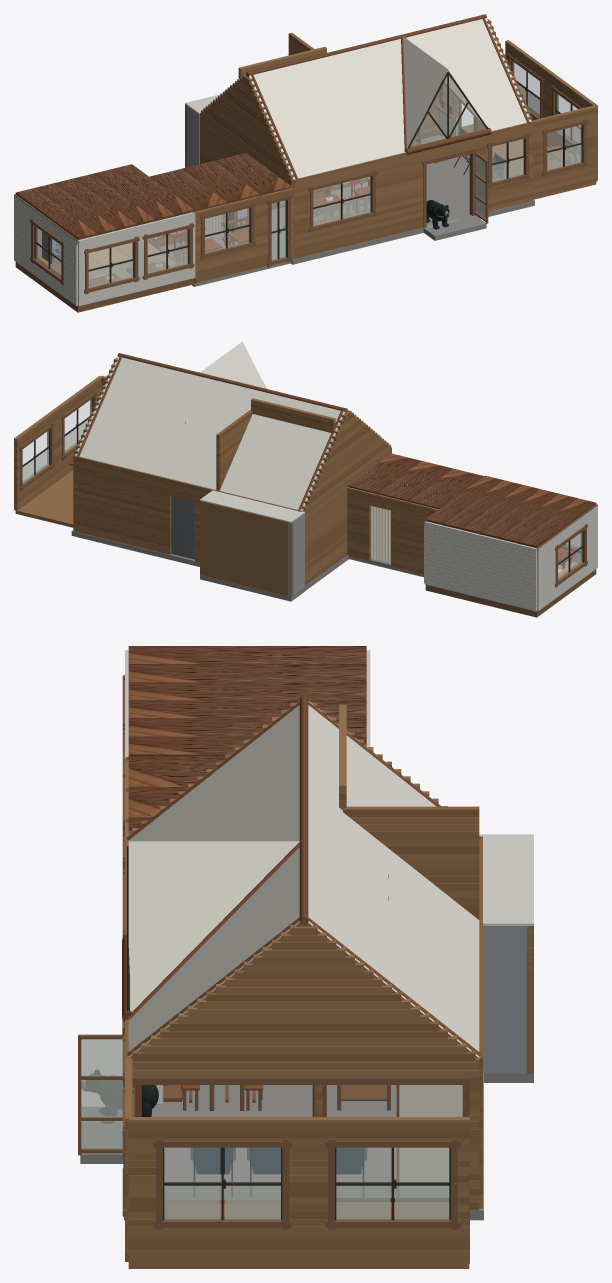
The model's file is room.glb.
The picture shows the model from 3 angles, top to bottom: view 1: azimuth 30°, elevation 25°; view 2: azimuth 150°, elevation 25°; view 3: azimuth 270°, elevation 25°; orthographic projection. The views are drawn at different scales.
Parts seen in each view (by area): view 1: web_roof, web_01_MAIN_SHELL, web_08_TATAMI_ROOM, web_14_BLUE_CHAIR_REAR_BAY, web_03_OPENINGS, web_07_LOW_DINING_BAY, web_04_MAIN_FURNITURE, web_15_ENTRANCE_BEAR, web_05_COUNTER_VISIBLE_KITCHEN; view 2: web_roof, web_01_MAIN_SHELL, web_08_TATAMI_ROOM, web_05_COUNTER_VISIBLE_KITCHEN, web_14_BLUE_CHAIR_REAR_BAY, web_07_LOW_DINING_BAY, web_06_EQUIPMENT_DOOR_AND_SINK; view 3: web_roof, web_14_BLUE_CHAIR_REAR_BAY, web_01_MAIN_SHELL, web_05_COUNTER_VISIBLE_KITCHEN, web_03_OPENINGS, web_04_MAIN_FURNITURE, web_15_ENTRANCE_BEAR, web_08_TATAMI_ROOM.
Boxes of the visible parts, box(x1,y1,x2,y2) form: web_roof: box(14, 14, 532, 244); web_01_MAIN_SHELL: box(200, 84, 534, 264); web_08_TATAMI_ROOM: box(14, 194, 195, 312); web_14_BLUE_CHAIR_REAR_BAY: box(434, 40, 597, 199); web_03_OPENINGS: box(308, 71, 530, 232); web_07_LOW_DINING_BAY: box(148, 188, 294, 286); web_04_MAIN_FURNITURE: box(313, 127, 505, 223); web_15_ENTRANCE_BEAR: box(423, 200, 486, 240); web_05_COUNTER_VISIBLE_KITCHEN: box(185, 104, 369, 209); web_roof: box(74, 341, 597, 552); web_01_MAIN_SHELL: box(71, 446, 391, 591); web_08_TATAMI_ROOM: box(424, 504, 597, 617); web_05_COUNTER_VISIBLE_KITCHEN: box(200, 501, 304, 601); web_14_BLUE_CHAIR_REAR_BAY: box(14, 375, 106, 527); web_07_LOW_DINING_BAY: box(347, 487, 438, 577); web_06_EQUIPMENT_DOOR_AND_SINK: box(171, 496, 194, 559); web_roof: box(125, 646, 533, 1060); web_14_BLUE_CHAIR_REAR_BAY: box(122, 1058, 469, 1268); web_01_MAIN_SHELL: box(124, 834, 483, 1220); web_05_COUNTER_VISIBLE_KITCHEN: box(337, 926, 533, 1110); web_03_OPENINGS: box(78, 845, 326, 1158); web_04_MAIN_FURNITURE: box(155, 1085, 367, 1197); web_15_ENTRANCE_BEAR: box(80, 1070, 158, 1163); web_08_TATAMI_ROOM: box(122, 650, 370, 837).
Bounding box in the file's own units: 18.47 × 5.3 × 7.29.
68 materials, 27 textured.
